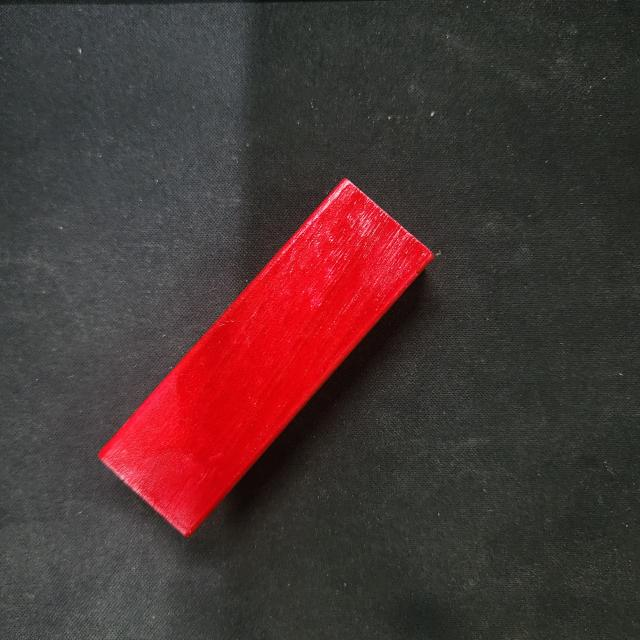red: (96, 175, 436, 540)
